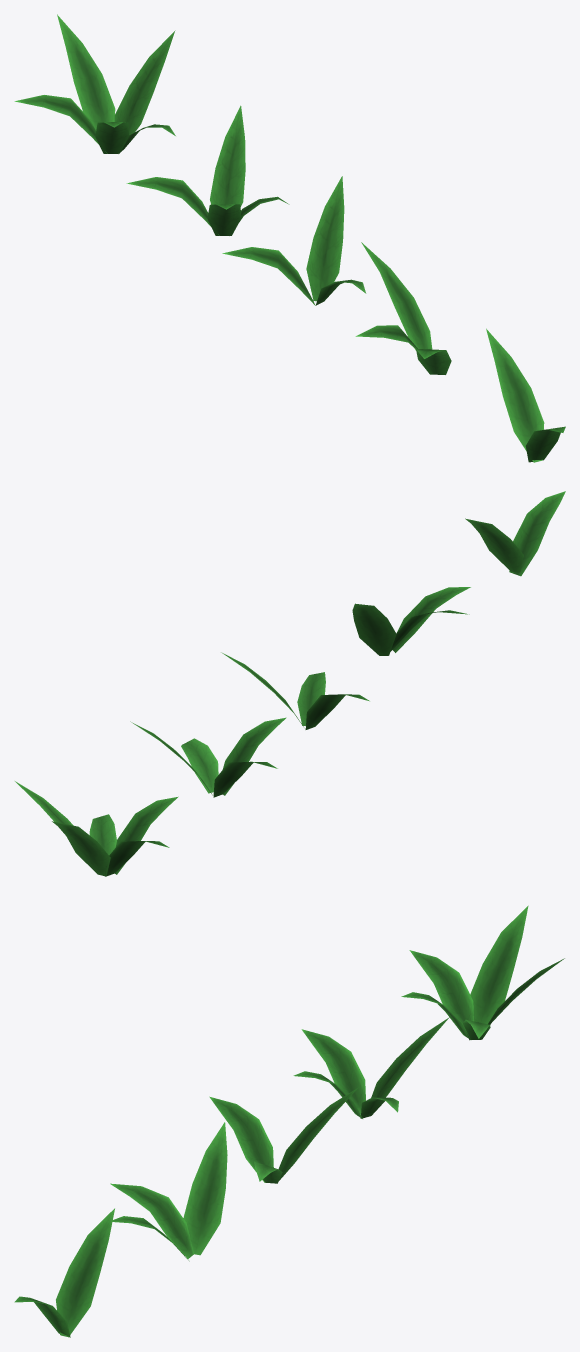
Rendered from peques.glb.
3 renders of one model, top to bottom at view 1: azimuth 30°, elevation 25°; view 2: azimuth 150°, elevation 25°; view 3: azimuth 330°, elevation 25°, orthographic. The views are drawn at different scales.
Visible parts, largest first — view 1: Plants15, Plants23, Plants1, Plants10, Plants2, Plants19, Plants13, Plants3, Plants8, Plants7, Plants4, Plants21 (+2 smaller); view 2: Plants21, Plants19, Plants1, Plants23, Plants6, Plants7, Plants4, Plants17, Plants11, Plants13, Plants8, Plants5 (+2 smaller); view 3: Plants19, Plants23, Plants1, Plants8, Plants13, Plants18, Plants3, Plants10, Plants15, Plants21.
Boxes of the visible parts, x1,y1,x2,y2 form: Plants15: (306,176,344,301); Plants23: (486,328,544,462); Plants1: (57,14,115,130); Plants10: (210,105,245,206); Plants2: (114,30,175,134); Plants19: (361,242,432,350); Plants13: (222,247,315,305); Plants3: (14,95,107,153); Plants8: (126,177,219,235); Plants7: (207,204,241,235); Plants4: (95,122,129,153); Plants21: (525,426,565,462); Plants21: (509,491,565,576); Plants19: (352,603,396,655); Plants1: (52,821,110,876); Plants23: (465,518,523,572); Plants6: (181,738,218,793); Plants7: (222,717,286,795); Plants4: (115,796,178,874); Plants17: (393,587,470,652); Plants11: (297,672,325,725); Plants13: (305,694,369,729); Plants8: (213,761,277,797); Plants5: (89,814,116,855); Plants19: (183,1122,227,1255); Plants23: (56,1208,114,1337); Plants1: (470,905,528,1024); Plants8: (301,1029,365,1114); Plants13: (209,1096,273,1182); Plants18: (110,1183,193,1258); Plants3: (409,950,473,1035); Plants10: (371,1017,449,1097); Plants15: (278,1087,358,1180); Plants21: (14,1296,70,1337).
Bounding box in the file's own units: 2.61 × 1.49 × 14.53.
Materials: 1 (1 with a texture image).
